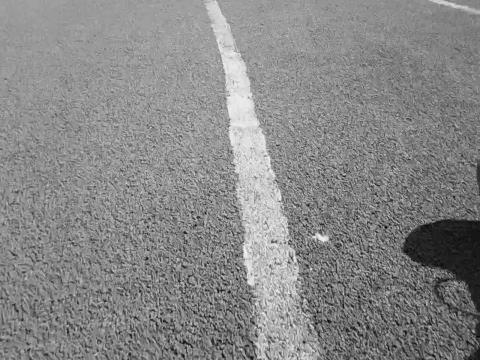Lines: (199, 0, 325, 360)
